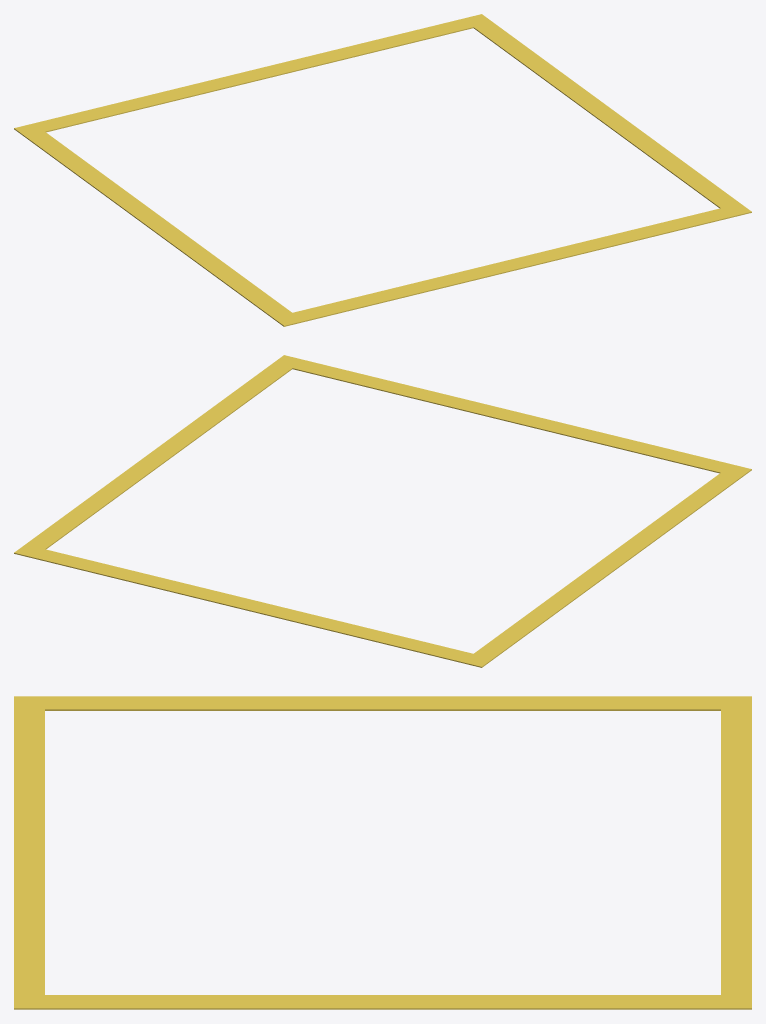
The model's file is Garage_HazardSquare.glb.
The picture shows the model from 3 angles, top to bottom: view 1: azimuth 30°, elevation 25°; view 2: azimuth 150°, elevation 25°; view 3: azimuth 270°, elevation 25°; orthographic projection. The views are drawn at different scales.
Parts seen in each view (by area): view 1: Garage_HazardSquare; view 2: Garage_HazardSquare; view 3: Garage_HazardSquare.
Part boxes in pixels (x1,y1,x2,y2): Garage_HazardSquare: [14, 14, 751, 326]; Garage_HazardSquare: [14, 355, 751, 667]; Garage_HazardSquare: [14, 696, 751, 1009].
Size of the model in its own units: 1.9 by 0.004 by 1.9.
